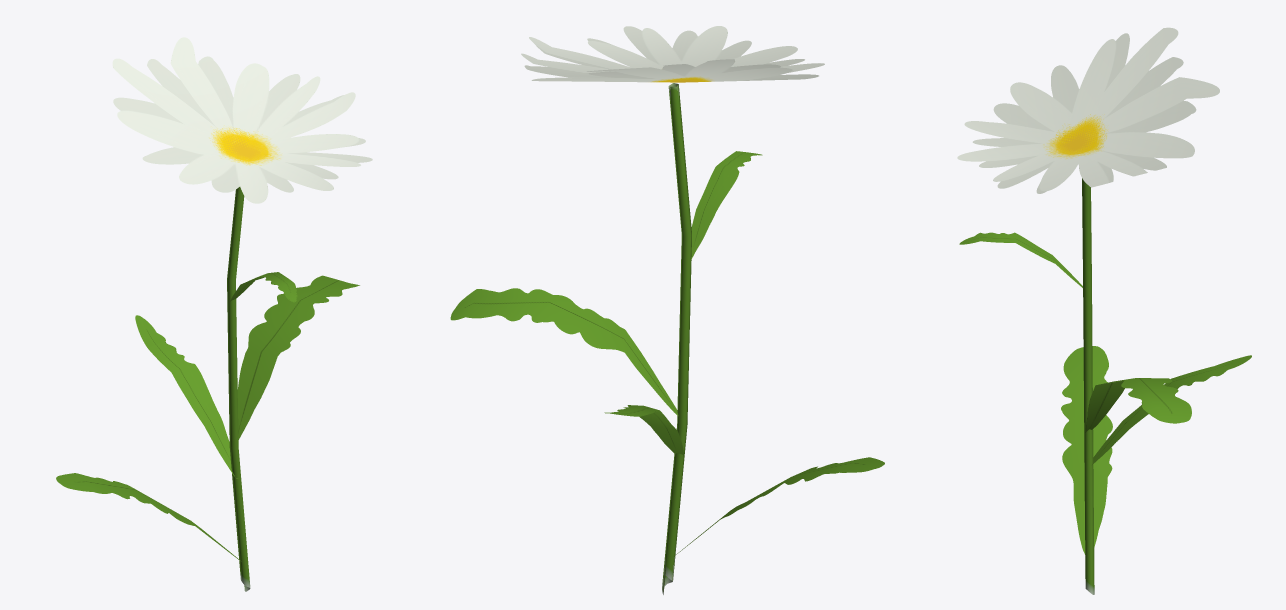
Rendered from daisy_model.fbx.
3 views of the same model, side by side, from view 1: azimuth 30°, elevation 25°; view 2: azimuth 150°, elevation 25°; view 3: azimuth 270°, elevation 25° (orthographic). The views are drawn at different scales.
Visible parts, largest first — view 1: flower_leaf_6; view 2: flower_leaf_6; view 3: flower_leaf_6.
Boxes of the visible parts, x1,y1,x2,y2 form: flower_leaf_6: (56,37,372,591); flower_leaf_6: (450,26,884,594); flower_leaf_6: (957,27,1251,594).
Bounding box in the file's own units: 1.28 × 1.63 × 0.9146.
